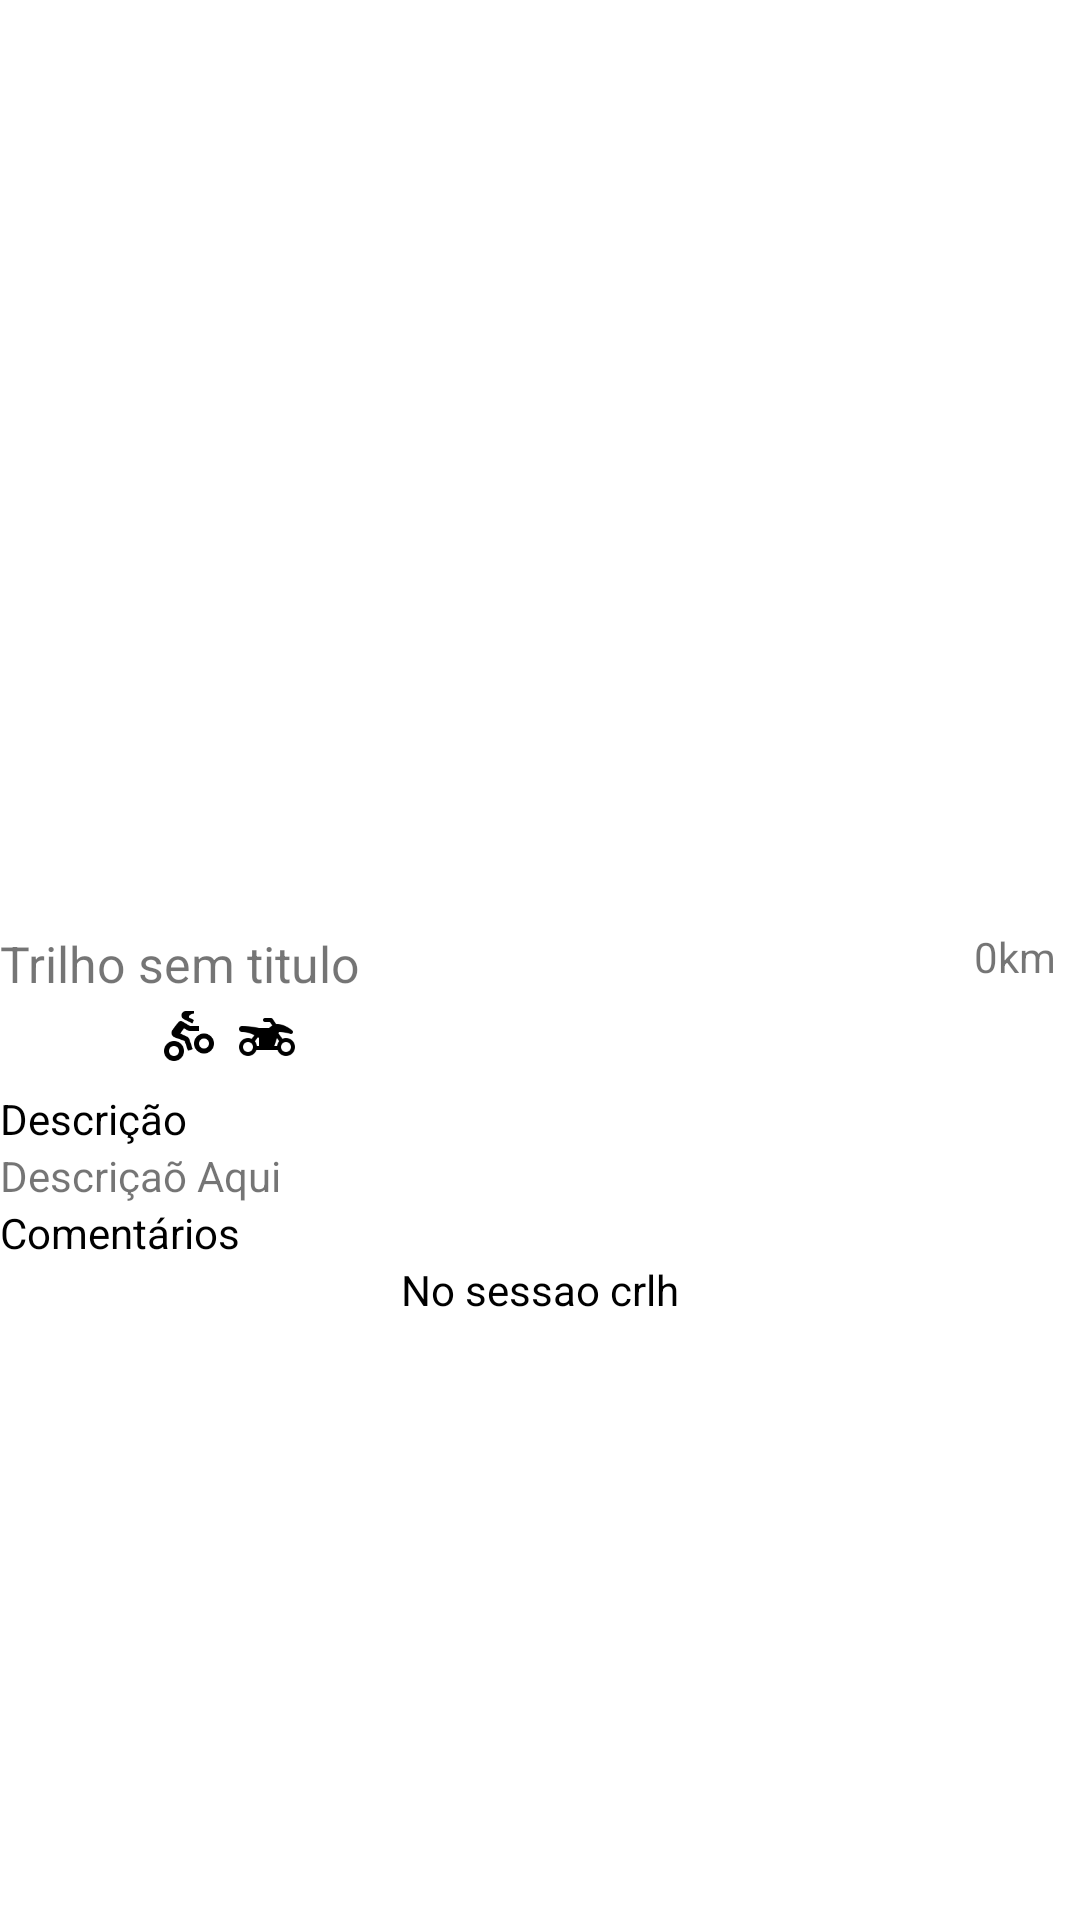

Screen size 1080 x 1920. Icon name, then its center in pixels as point (x, y):
cat trihlo cross: point (189, 1036)
cat trilho quad: point (267, 1037)
